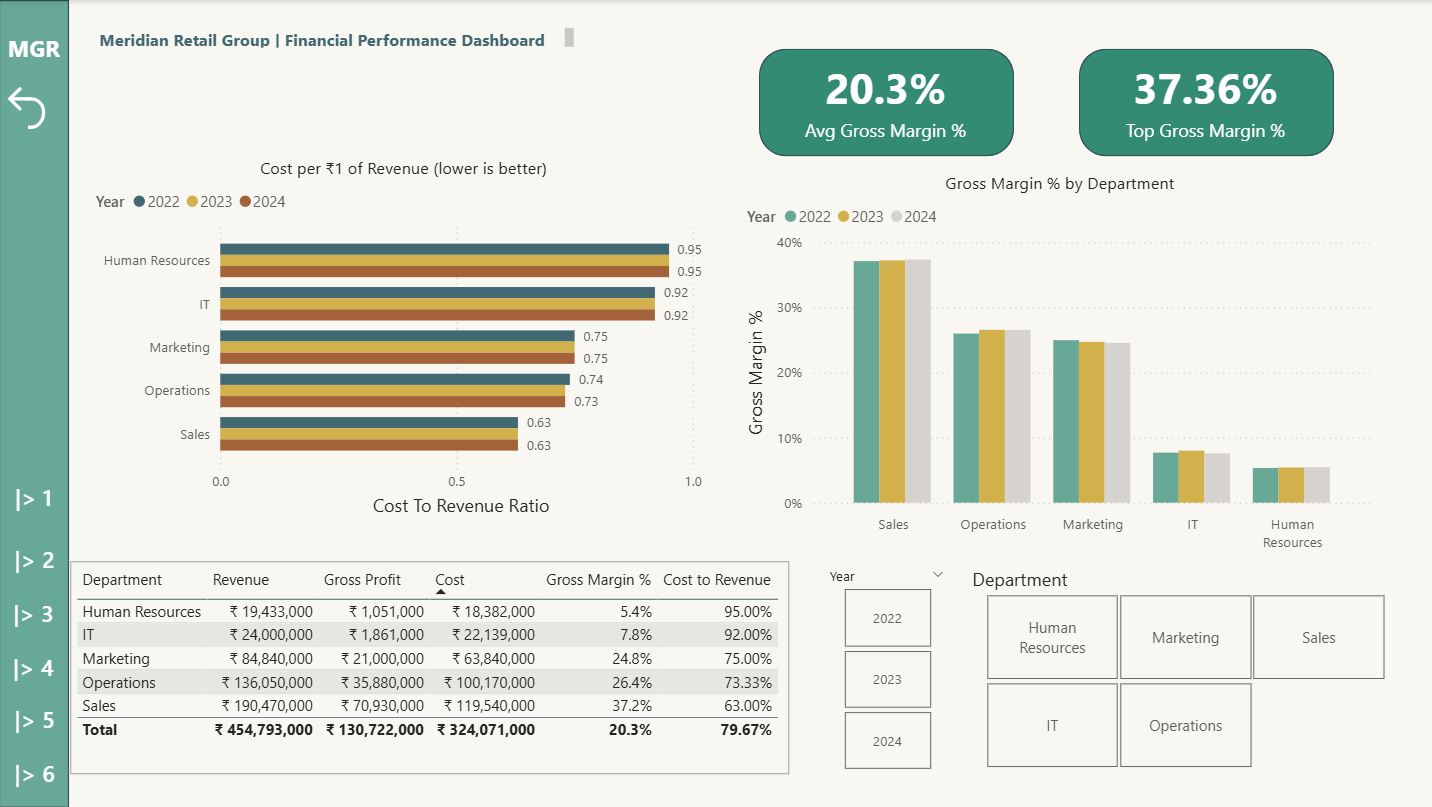

This screenshot's page, from the dashboard's own definition file:
{"tool":"powerbi","page":{"name":"Profitability Rank","canvas":[1280,720],"ordinal":5},"visuals":[{"type":"shape","title":"Border Shape","box":[0,0,62.4,720.2],"z":0},{"type":"actionButton","title":"Logo","box":[0,11.5,62.5,60.9],"z":0,"group":"g3"},{"type":"shape","box":[677.2,43.1,227.1,95.7],"z":0,"group":"g2"},{"type":"actionButton","box":[0,418.9,61.6,47.7],"z":0,"group":"g1"},{"type":"slicer","title":"Slicer - Yr","fields":{"Values":["Department Profitability.Year"]},"box":[726.6,500.1,126.8,192.1],"z":0,"group":"g4"},{"type":"textbox","title":"Title","box":[84.8,20.8,431.9,27.7],"z":1000,"group":"g3"},{"type":"card","title":"Avg Gross Margin %","fields":{"Values":["Measure_Table.Gross Margin %"]},"box":[686.1,43.1,207.9,90.9],"z":1000,"group":"g2"},{"type":"actionButton","title":"Reset Button","box":[0,70.7,74,49.3],"z":1000},{"type":"actionButton","box":[1.5,474.3,61.6,47.7],"z":1000,"group":"g1"},{"type":"slicer","title":"Slicer - Dept.","fields":{"Values":["Department Profitability.Department"]},"box":[853.4,500.1,404.1,190.3],"z":1000,"group":"g4"},{"type":"shape","box":[961.8,43.1,227.1,95.7],"z":2000,"group":"g2"},{"type":"clusteredColumnChart","title":"Gross Margin % by Department","fields":{"Category":["Department Profitability.Department"],"Series":["Department Profitability.Year"],"Y":["Measure_Table.6. Avg Gross Margin % (Dept Profi)"]},"box":[661.4,152.2,567.2,346.1],"z":2000},{"type":"actionButton","box":[0,522.1,61.6,47.7],"z":2000,"group":"g1"},{"type":"card","title":"Top Gross Margin %","fields":{"Values":["Measure_Table.6.Top Gross Margin % (Dept. Profi)"]},"box":[970.7,43.1,207.9,90.9],"z":3000,"group":"g2"},{"type":"tableEx","fields":{"Values":["Department Profitability.Department","Sum(Department Profitability.Revenue)","Sum(Department Profitability.Gross Profit)","Sum(Department Profitability.Cost)","Measure_Table.6. Avg Gross Margin % (Dept Profi)","Measure_Table.6.Avg Cost to Revenue (Dept. Profi)"]},"box":[63.4,500.1,639.6,190.3],"z":3000},{"type":"actionButton","box":[0,569.8,61.6,47.7],"z":3000,"group":"g1"},{"type":"clusteredBarChart","title":"Cost per ₹1 of Revenue (lower is better)","fields":{"Category":["Department Profitability.Department"],"Y":["Sum(Department Profitability.Cost To Revenue Ratio)"],"Series":["Department Profitability.Year"]},"box":[81.5,139.5,558.1,326.2],"z":4000},{"type":"actionButton","box":[1.5,665.3,61.6,47.7],"z":4000,"group":"g1"},{"type":"group","id":"g1","title":"Page Navigation","box":[0,418.9,63.1,294.1],"z":5000},{"type":"actionButton","box":[1.5,617.6,61.6,47.7],"z":5000,"group":"g1"},{"type":"group","id":"g2","title":"KPI Cards","box":[677.2,43.1,511.8,95.7],"z":6000},{"type":"group","id":"g3","title":"Logo & Title","box":[0,11.5,516.7,60.9],"z":7000},{"type":"group","id":"g4","title":"Slicers","box":[726.6,500.1,530.9,192.1],"z":8000}]}

Visuals, with their boxes on the page's 1280x720 design canvas (x1, y1, x2, y2). These are canvas units, not pixel positions in the 1432x807 screenshot, which may show the page scaled, cropped or inside an application window:
"Border Shape" shape: rect(0, 0, 62, 720)
"Logo" actionButton: rect(0, 12, 62, 72)
shape: rect(677, 43, 904, 139)
actionButton: rect(0, 419, 62, 467)
"Slicer - Yr" slicer: rect(727, 500, 853, 692)
"Title" textbox: rect(85, 21, 517, 48)
"Avg Gross Margin %" card: rect(686, 43, 894, 134)
"Reset Button" actionButton: rect(0, 71, 74, 120)
actionButton: rect(2, 474, 63, 522)
"Slicer - Dept." slicer: rect(853, 500, 1258, 690)
shape: rect(962, 43, 1189, 139)
"Gross Margin % by Department" clusteredColumnChart: rect(661, 152, 1229, 498)
actionButton: rect(0, 522, 62, 570)
"Top Gross Margin %" card: rect(971, 43, 1179, 134)
tableEx - Department Profitability.Department x Sum(Department Profitability.Revenue): rect(63, 500, 703, 690)
actionButton: rect(0, 570, 62, 618)
"Cost per ₹1 of Revenue (lower is better)" clusteredBarChart: rect(82, 140, 640, 466)
actionButton: rect(2, 665, 63, 713)
"Page Navigation" group: rect(0, 419, 63, 713)
actionButton: rect(2, 618, 63, 665)
"KPI Cards" group: rect(677, 43, 1189, 139)
"Logo & Title" group: rect(0, 12, 517, 72)
"Slicers" group: rect(727, 500, 1258, 692)
